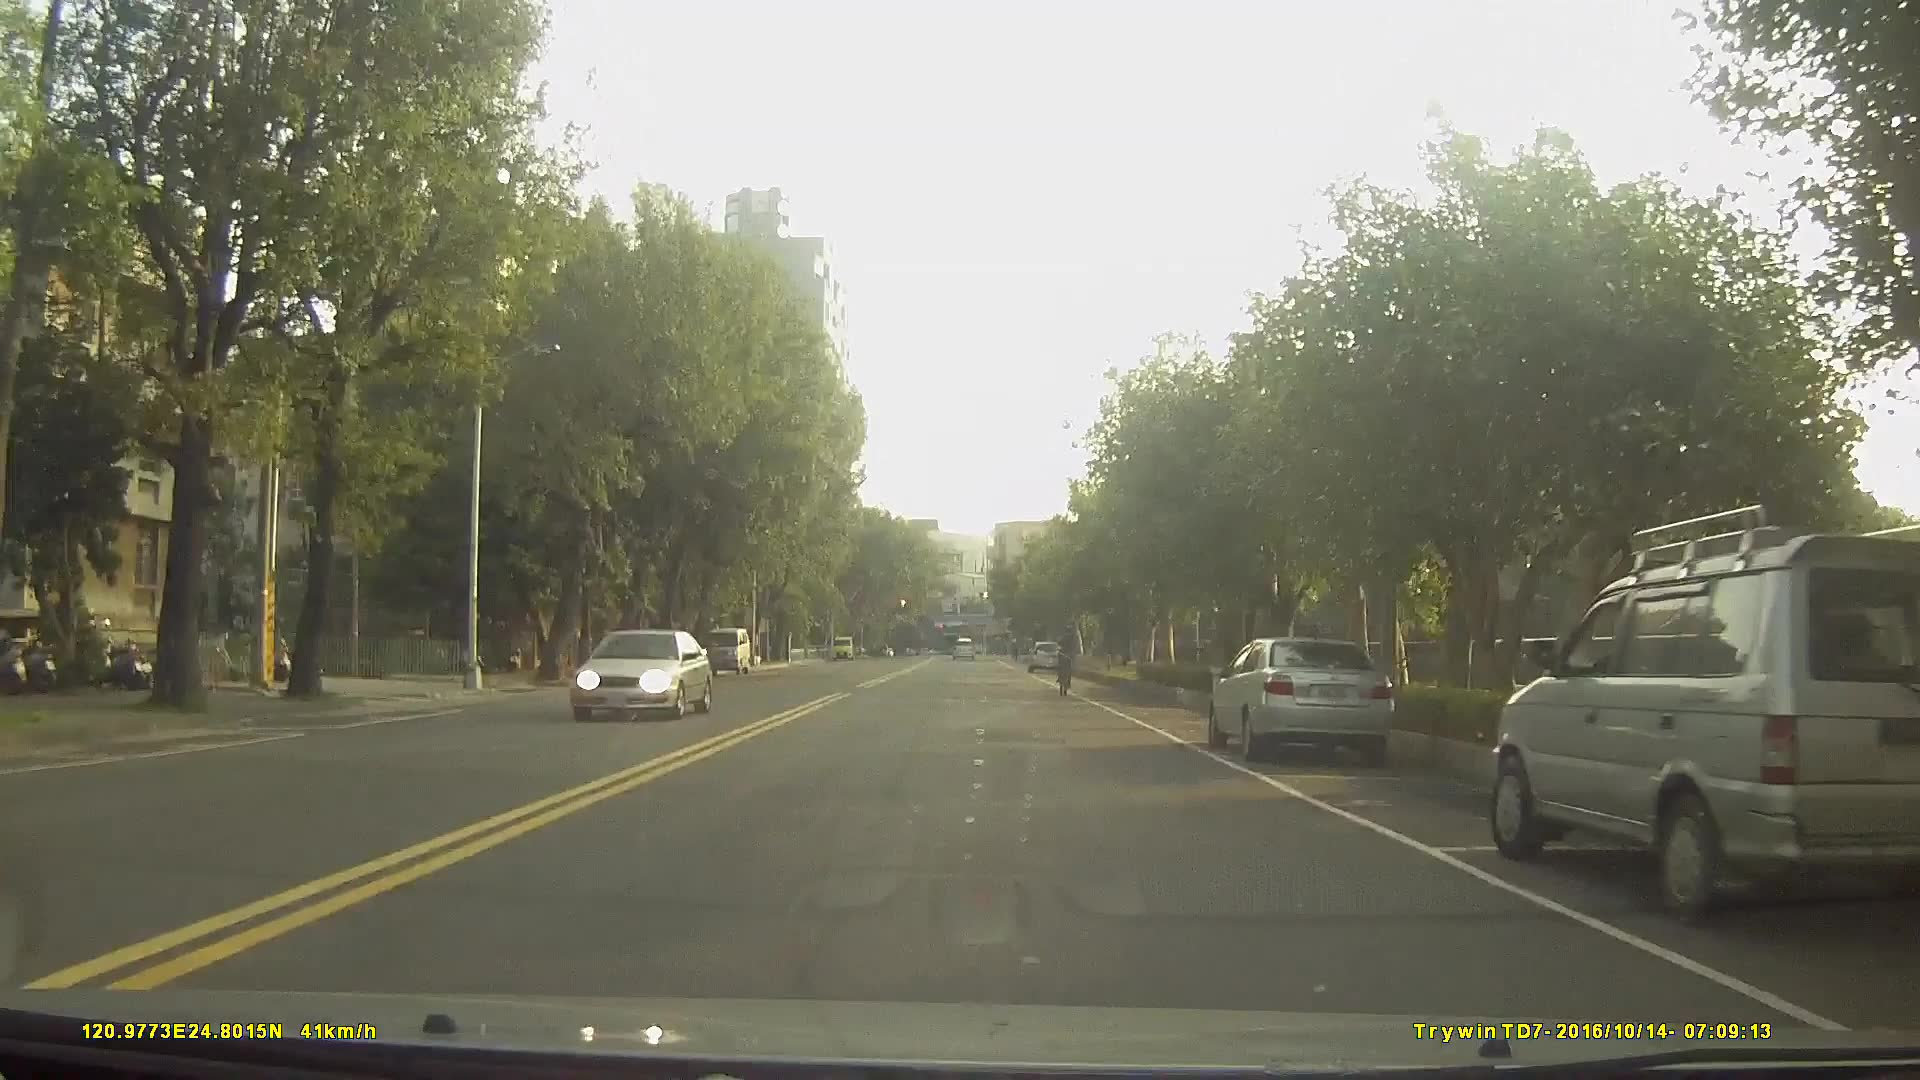rider: (1056, 619, 1082, 703)
vehicle: (1487, 527, 1920, 923), (1206, 636, 1395, 761), (570, 629, 714, 725), (616, 637, 679, 687), (700, 624, 750, 676), (1025, 636, 1063, 673), (949, 636, 976, 664)
